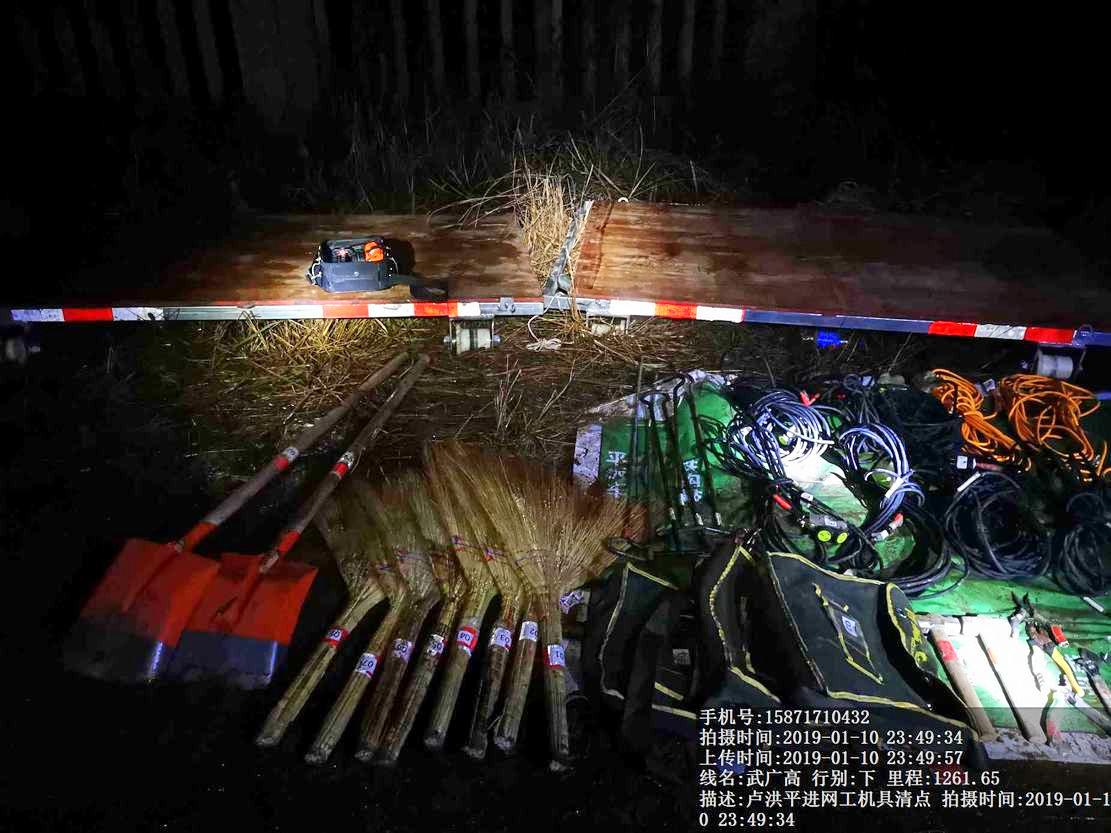DX: (1006, 370, 1111, 476), (925, 363, 1027, 471)
GJB: (762, 542, 962, 720), (586, 555, 724, 727), (304, 229, 413, 294)
SB: (470, 441, 612, 776)
TQ: (59, 419, 249, 676), (176, 437, 369, 680)
